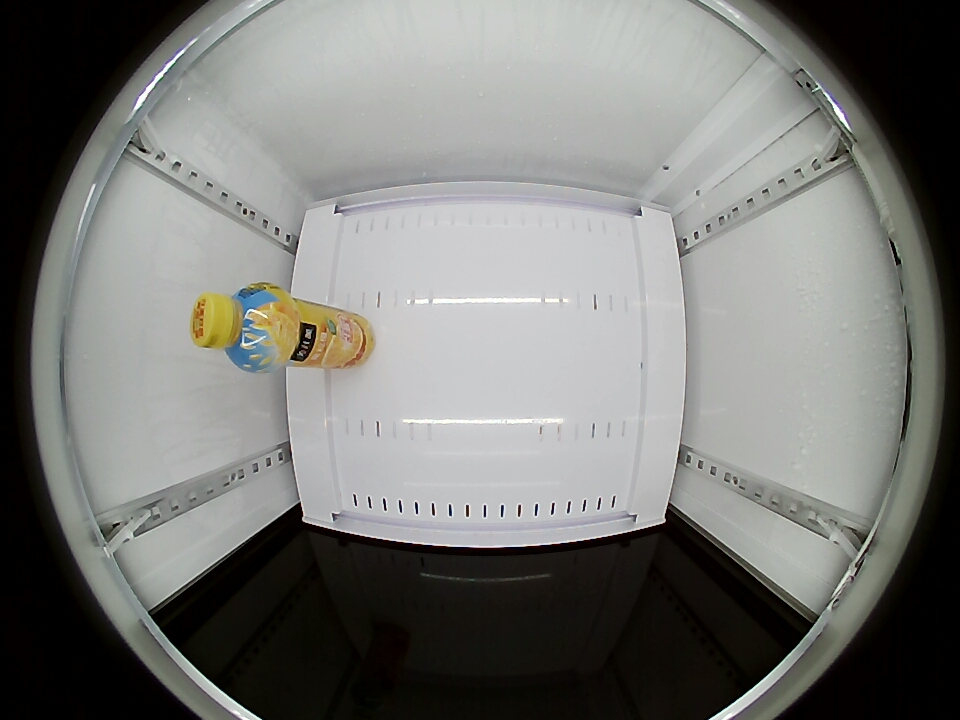guolicheng: (191, 283, 293, 372)
